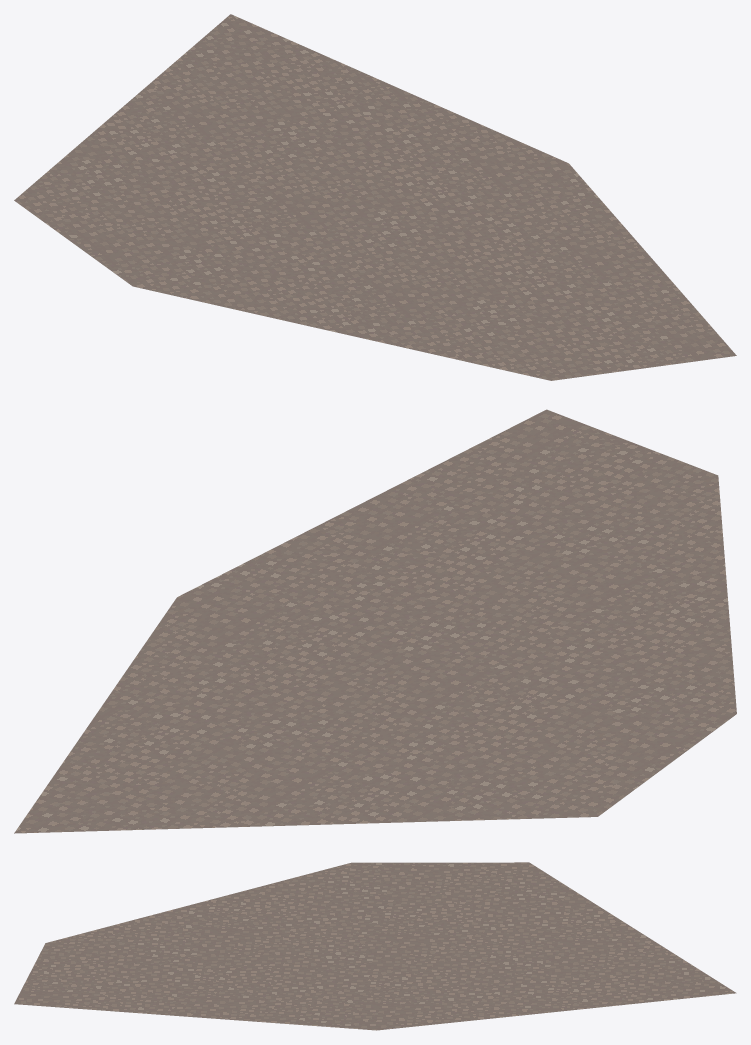
Rendered from kd_stage_136599_16_20_bounded.glb.
3 renders of one model, top to bottom at view 1: azimuth 30°, elevation 25°; view 2: azimuth 150°, elevation 25°; view 3: azimuth 270°, elevation 25°, orthographic. The views are drawn at different scales.
Visible parts, largest first — view 1: kd_stage_136599_16_20_bounded; view 2: kd_stage_136599_16_20_bounded; view 3: kd_stage_136599_16_20_bounded.
Part boxes in pixels (bbox=[...]): kd_stage_136599_16_20_bounded: bbox=[14, 14, 736, 380]; kd_stage_136599_16_20_bounded: bbox=[14, 409, 736, 833]; kd_stage_136599_16_20_bounded: bbox=[14, 862, 736, 1030].
Bounding box in the file's own units: 15.24 × 0 × 27.7.
1 material, 1 textured.
